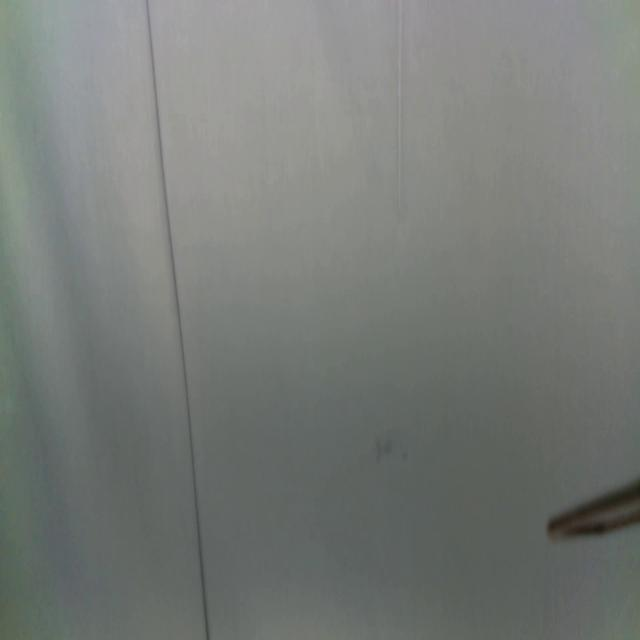crease: (145, 0, 211, 640), (394, 0, 404, 228)
